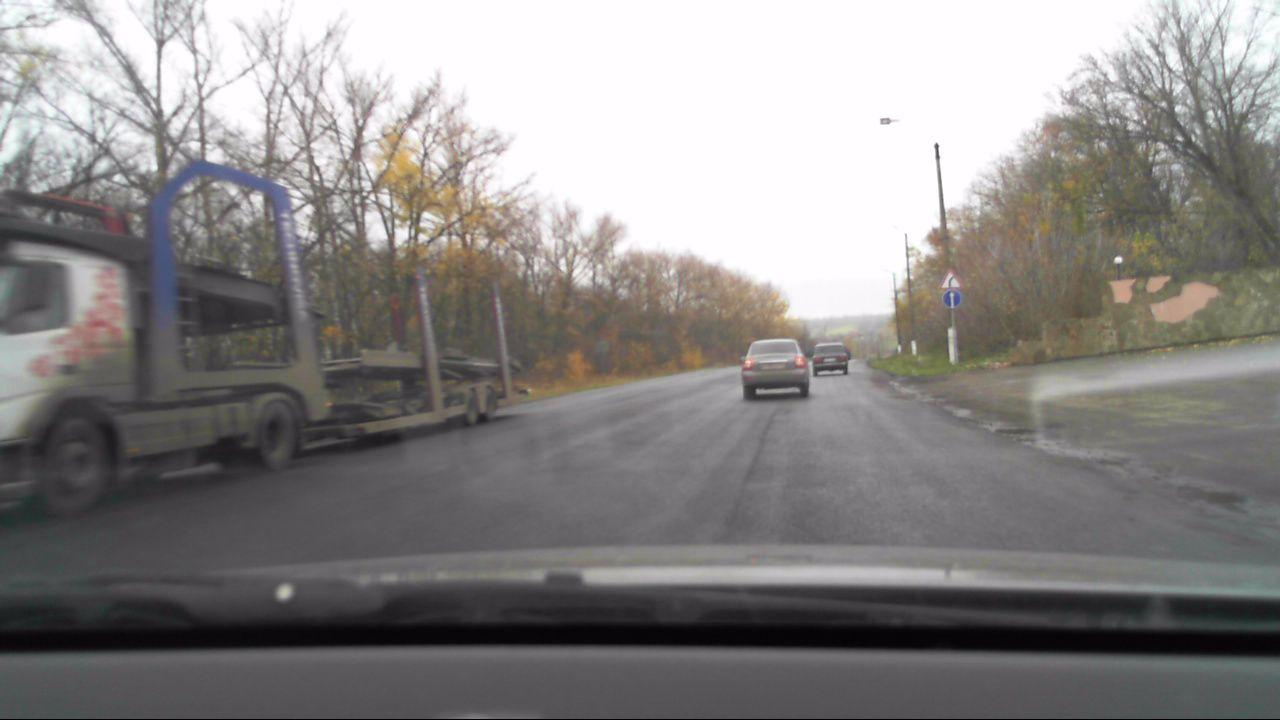1_11_1: (939, 269, 964, 290)
4_1_1: (943, 291, 963, 309)
